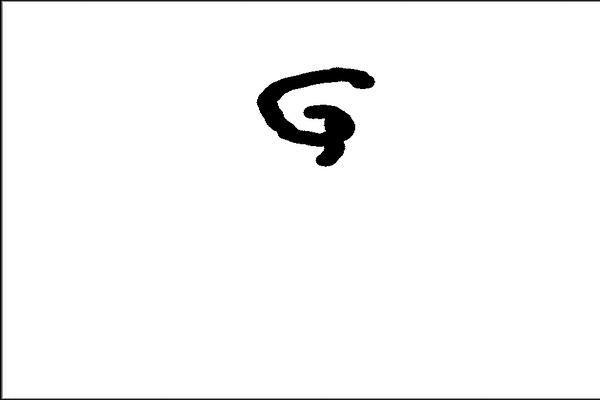G: (248, 63, 377, 171)
